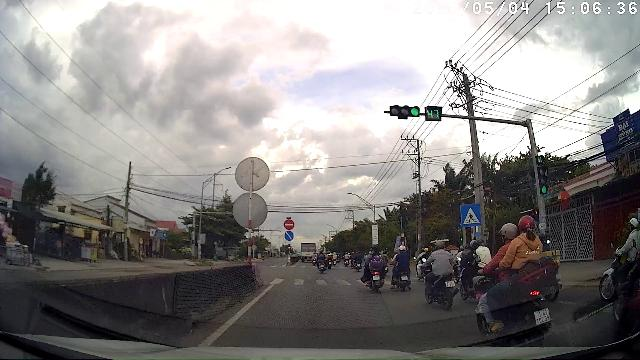102-cam-di-nguoc-chieu: (284, 219, 295, 230)
302a-huong-phai-di-vong-chuong-ngai-vat-1: (284, 230, 294, 241)
423a-duong-nguoi-di-bo-sang-ngang-1: (462, 205, 481, 226)
